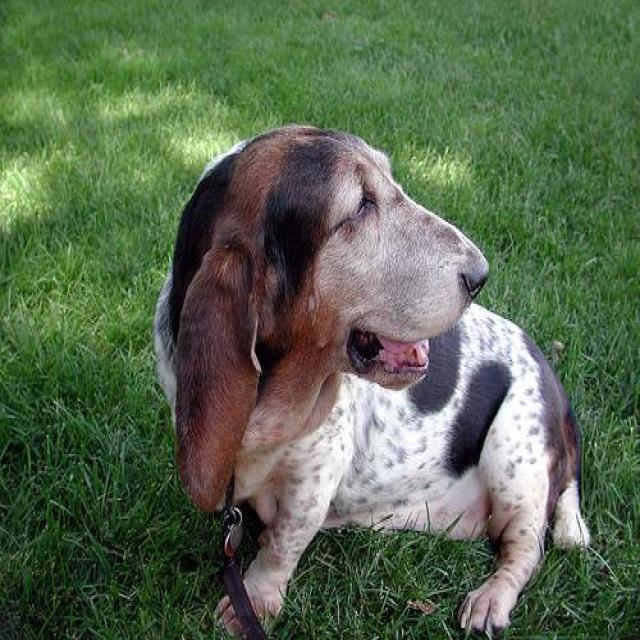basset: (156, 126, 589, 638)
